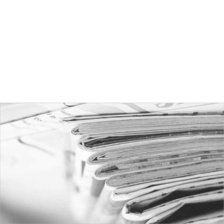news_paper: (56, 113, 224, 223)
